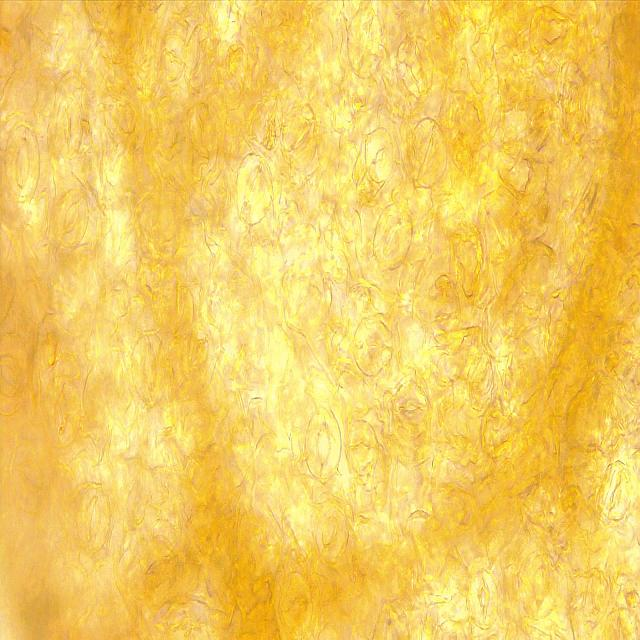Stomata: (9, 438, 54, 517), (370, 200, 415, 275), (345, 5, 389, 81), (2, 123, 42, 204), (407, 116, 449, 193), (234, 150, 275, 228), (517, 547, 559, 623), (43, 372, 82, 449), (130, 329, 168, 408), (352, 312, 396, 379), (0, 330, 32, 420), (304, 406, 341, 482), (280, 102, 319, 173), (75, 484, 111, 556), (395, 34, 436, 96), (52, 185, 90, 249), (314, 499, 350, 565), (598, 458, 633, 525), (278, 570, 314, 635), (464, 567, 500, 631), (346, 417, 380, 478), (54, 95, 84, 162), (392, 379, 428, 434), (185, 99, 218, 159), (364, 124, 394, 185)
